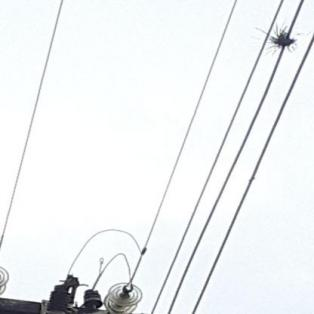Poste: (112, 298, 224, 314)
